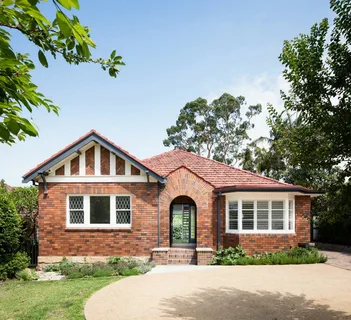private_hause: (29, 128, 317, 265)
